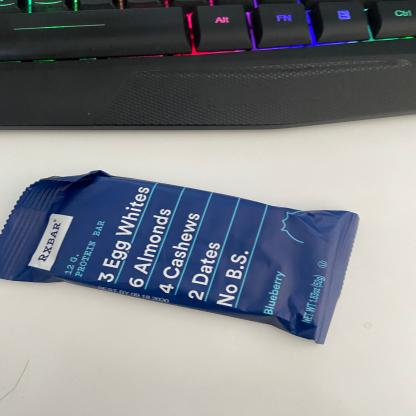ProteinBars: (1, 177, 352, 347)
